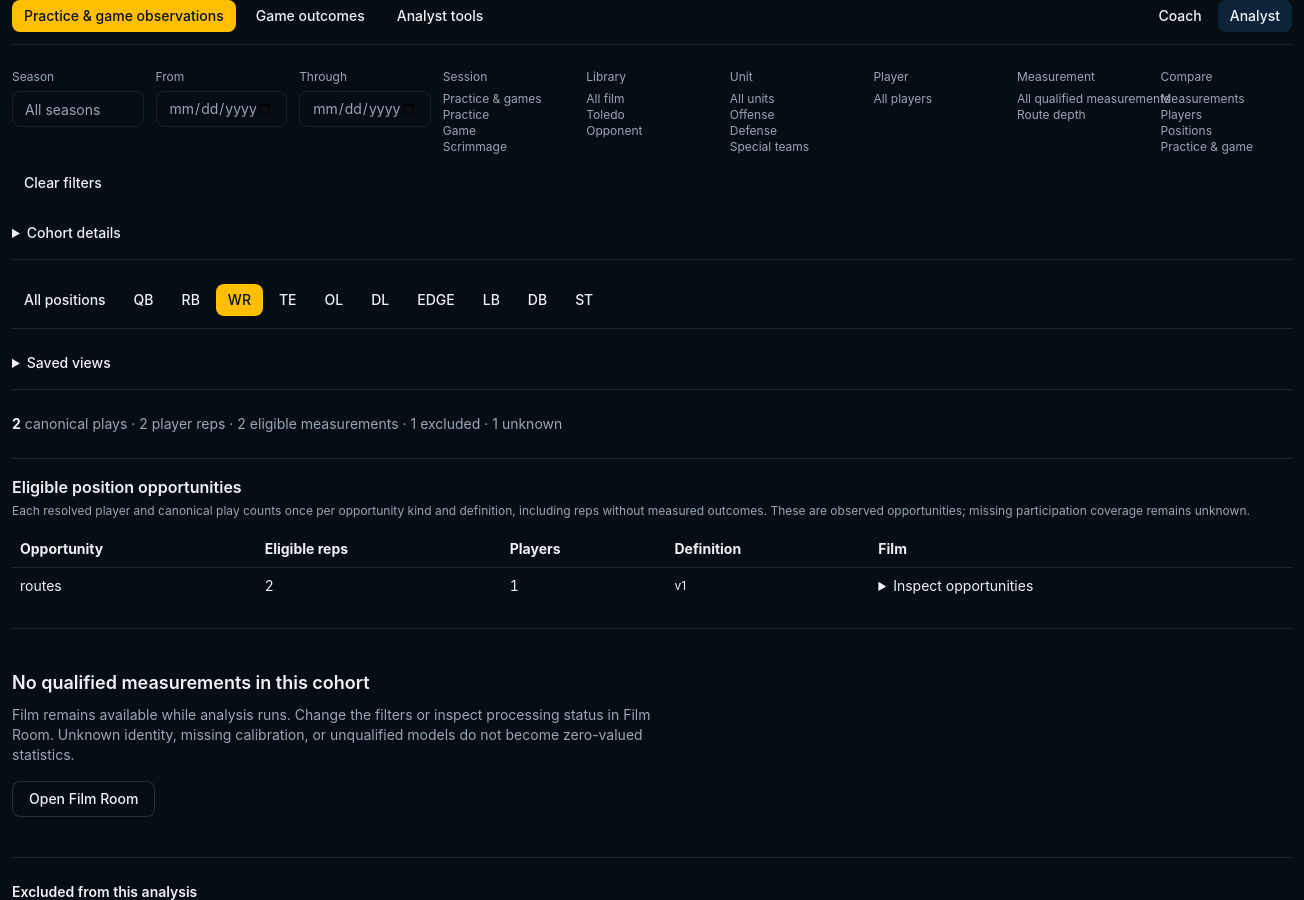
Test: opportunity-only cohorts retain denominator evidence and source-time film links
Click the heading "Inspect opportunities".
click(963, 586)  # box [893,577,1033,594]
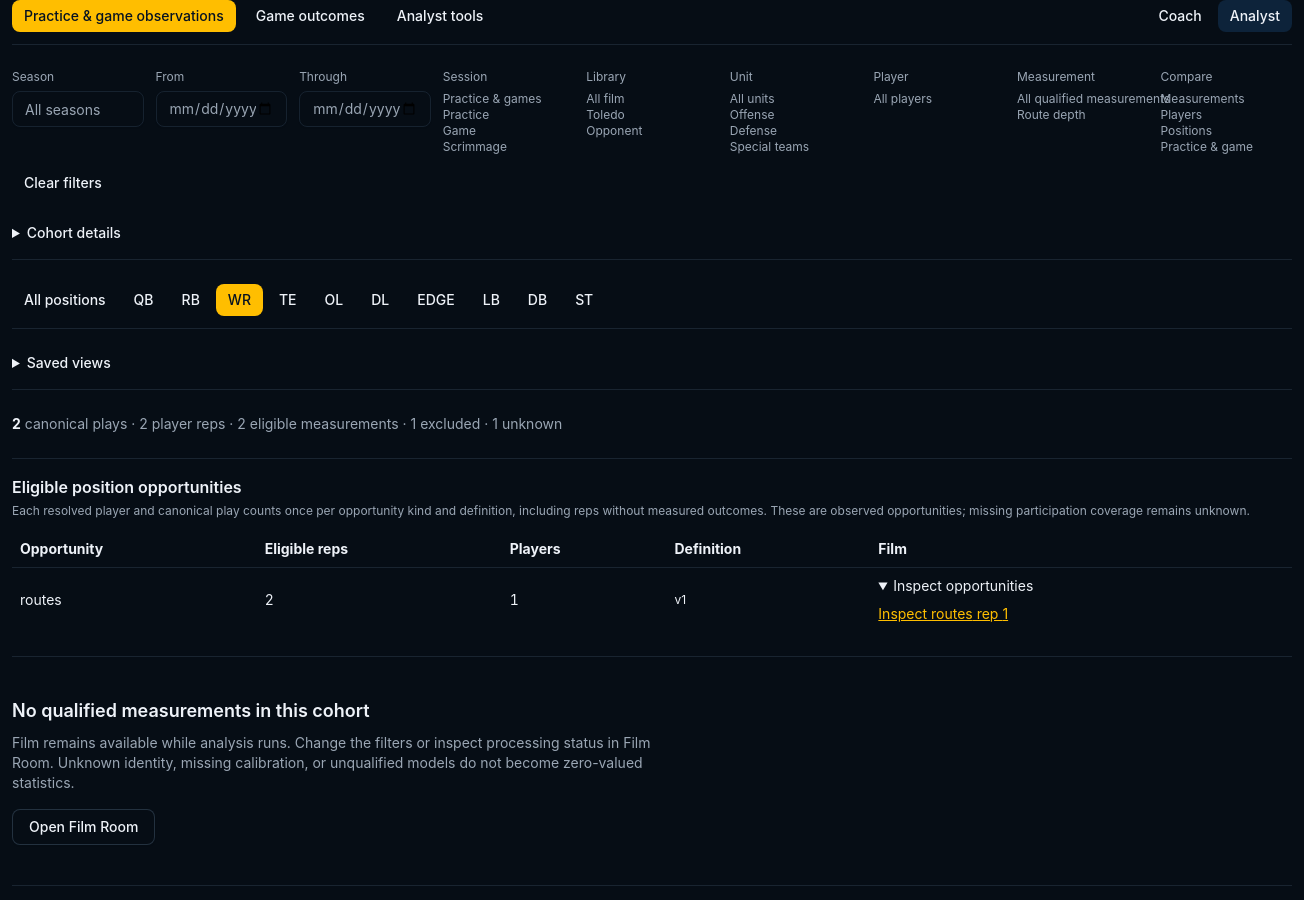
Click the button "Inspect routes rep 1".
click(905, 614)  # box [878,604,1284,624]
(page scrolled)
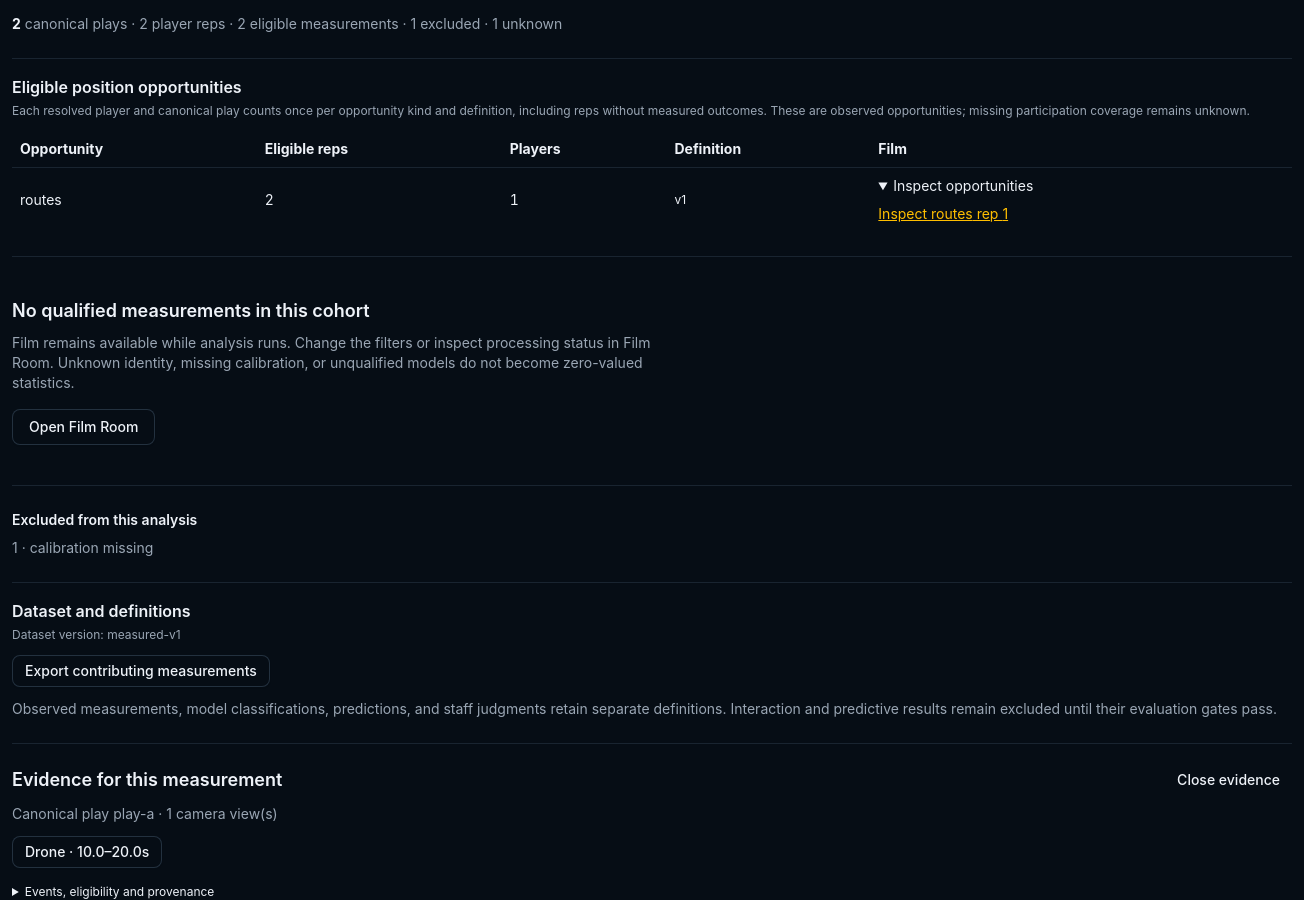
Now the text "Canonical play play-a · 1 camera view(s)" is shown, box [12,805,278,822]
